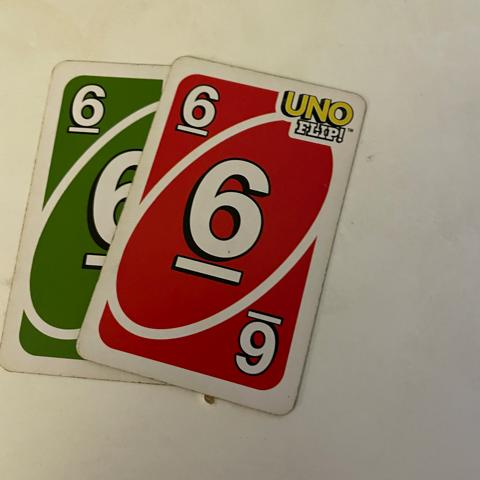lgreen-6: (58, 72, 117, 145)
lred-6: (172, 71, 231, 146)
